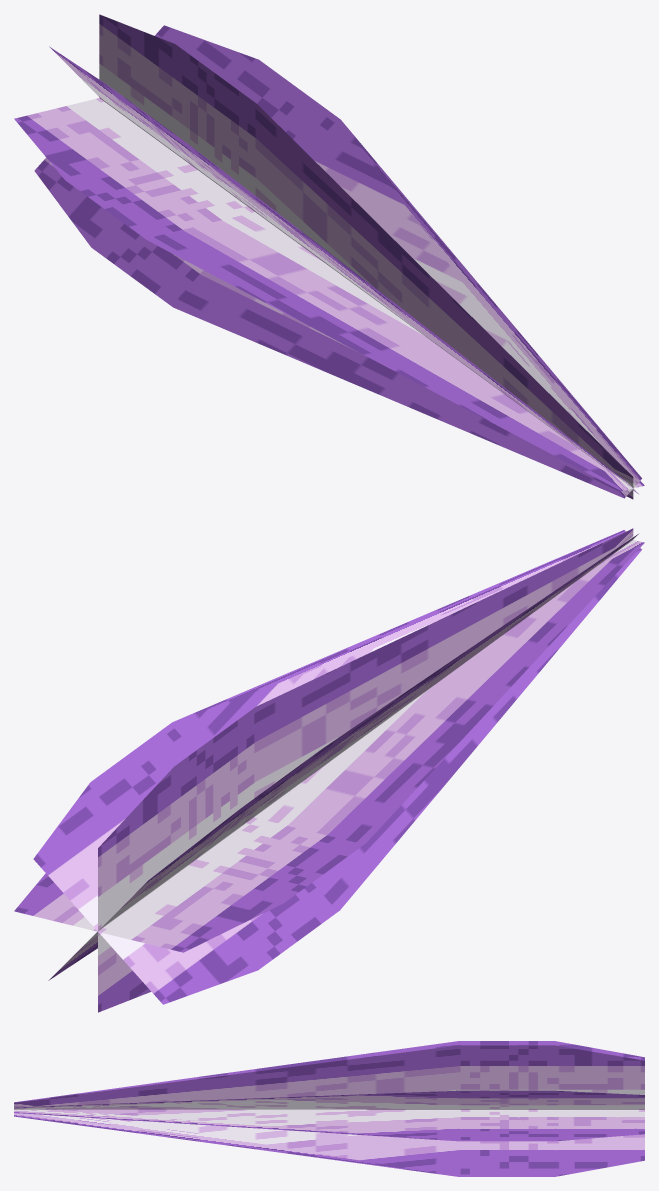
File: afterburner_flame.obj
The picture shows the model from 3 angles, top to bottom: view 1: azimuth 30°, elevation 25°; view 2: azimuth 150°, elevation 25°; view 3: azimuth 270°, elevation 25°; orthographic projection. The views are drawn at different scales.
Visible parts, largest first — view 1: fire; view 2: fire; view 3: fire.
Boxes of the visible parts, box(x1,y1,x2,y2) form: fire: box(14, 14, 644, 499); fire: box(14, 528, 644, 1012); fire: box(14, 1041, 644, 1176).
Bounding box in the file's own units: 2.12 × 2 × 8.97.
